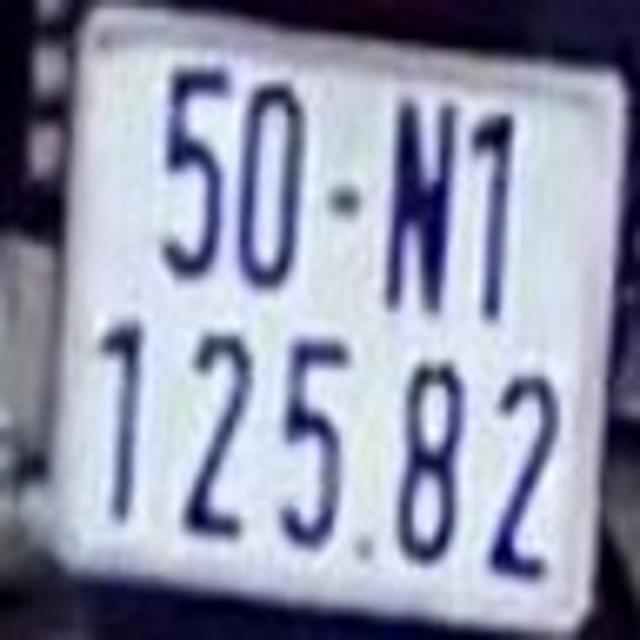0: (234, 75, 308, 288)
1: (468, 105, 516, 322), (90, 312, 139, 522)
2: (165, 324, 257, 546), (482, 361, 562, 585)
5: (157, 60, 230, 282), (277, 328, 346, 554)
8: (393, 352, 466, 572)
N: (378, 91, 457, 311)
